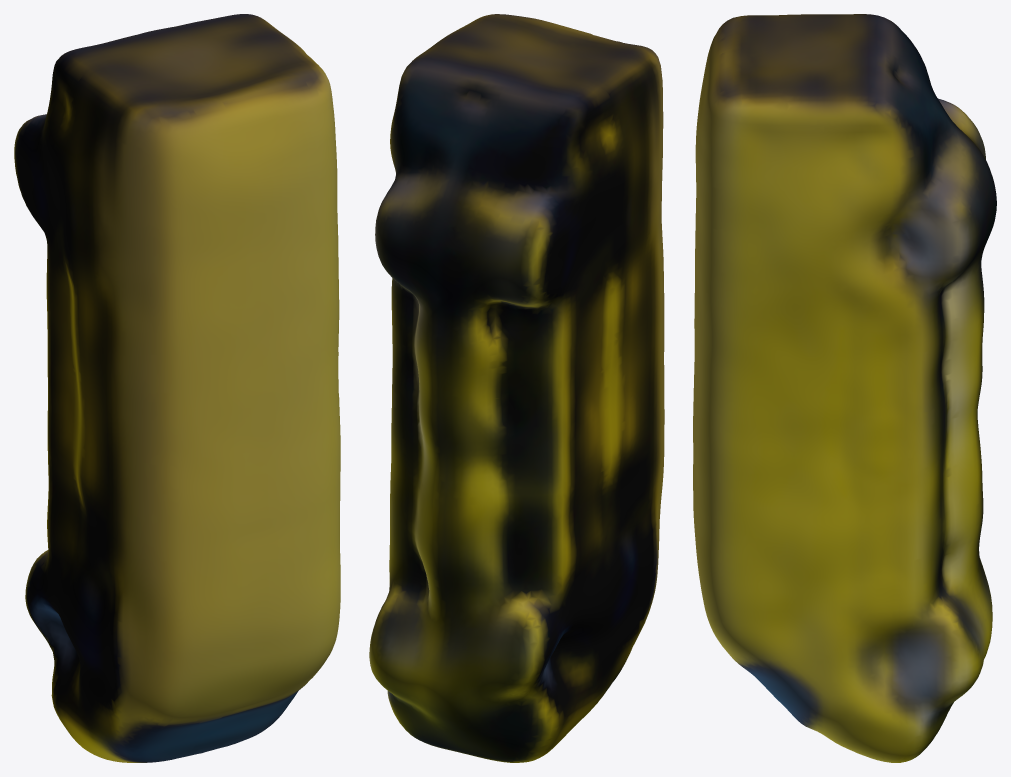
Rendered from school_bus1.glb.
3 views of the same model, side by side, from view 1: azimuth 30°, elevation 25°; view 2: azimuth 150°, elevation 25°; view 3: azimuth 270°, elevation 25° (orthographic). The views are drawn at different scales.
Size of the model in its own units: 0.3313 by 0.9997 by 0.404.
